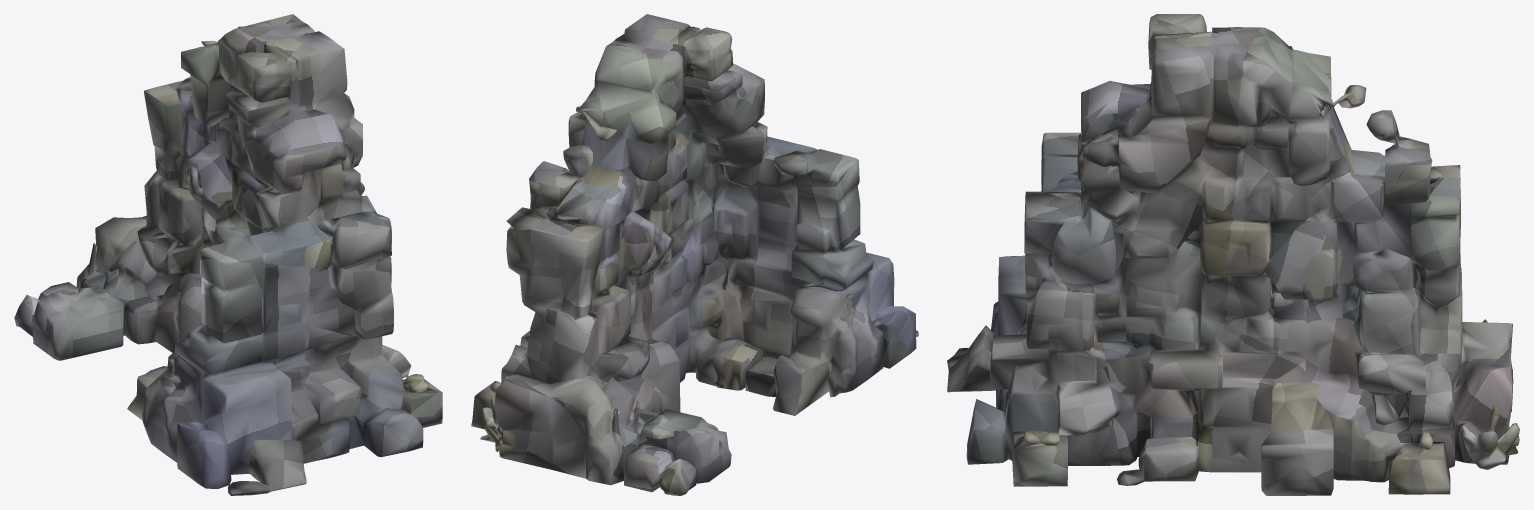
The model's file is destructible_wall.glb.
3 views of the same model, side by side, from view 1: azimuth 30°, elevation 25°; view 2: azimuth 150°, elevation 25°; view 3: azimuth 270°, elevation 25° (orthographic). The views are drawn at different scales.
Visible parts, largest first — view 1: tripo_node_b0ad2420-1fbe-4f7c-bb1c-5c9d865d37dd; view 2: tripo_node_b0ad2420-1fbe-4f7c-bb1c-5c9d865d37dd; view 3: tripo_node_b0ad2420-1fbe-4f7c-bb1c-5c9d865d37dd.
Boxes of the visible parts, x1,y1,x2,y2 form: tripo_node_b0ad2420-1fbe-4f7c-bb1c-5c9d865d37dd: (14, 14, 442, 495); tripo_node_b0ad2420-1fbe-4f7c-bb1c-5c9d865d37dd: (471, 14, 918, 495); tripo_node_b0ad2420-1fbe-4f7c-bb1c-5c9d865d37dd: (947, 14, 1519, 495).
Size of the model in its own units: 0.6229 by 0.7854 by 0.9969.
Materials: 1 (1 with a texture image).
